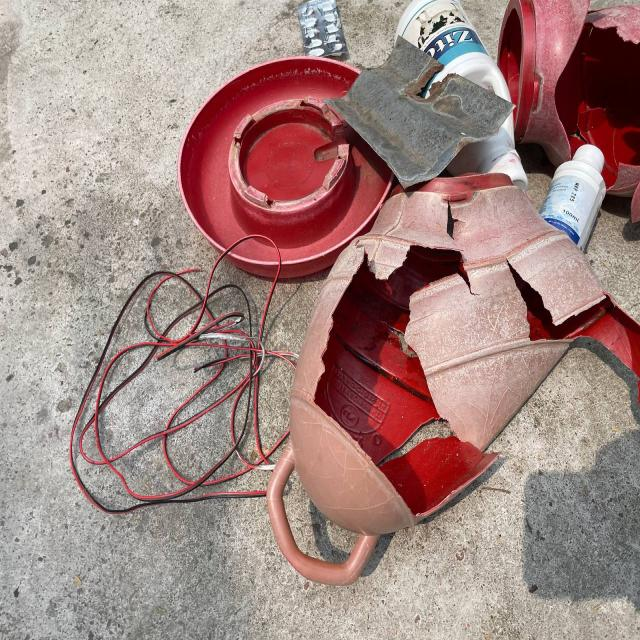Cable: (63, 250, 274, 520)
Medical Waste: (280, 0, 352, 56)
Metal: (321, 36, 521, 182)
Plastics: (288, 191, 530, 596), (524, 0, 640, 443), (168, 51, 337, 247)
